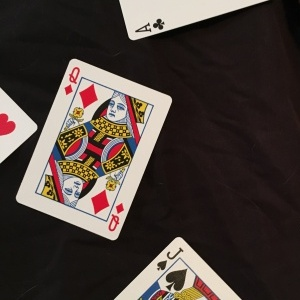card: (15, 56, 173, 244)
